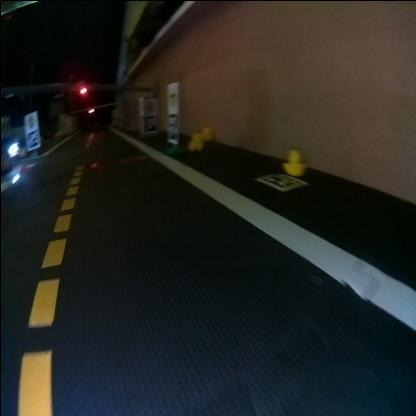Duckie: (281, 148, 305, 174), (188, 132, 202, 150), (200, 126, 210, 138)
Intersection sign: (166, 82, 177, 110), (142, 96, 156, 110)
QR code: (252, 174, 306, 188), (166, 112, 177, 142), (26, 127, 38, 149), (144, 114, 156, 130), (138, 114, 142, 132)
Traffic light: (86, 105, 92, 113)
